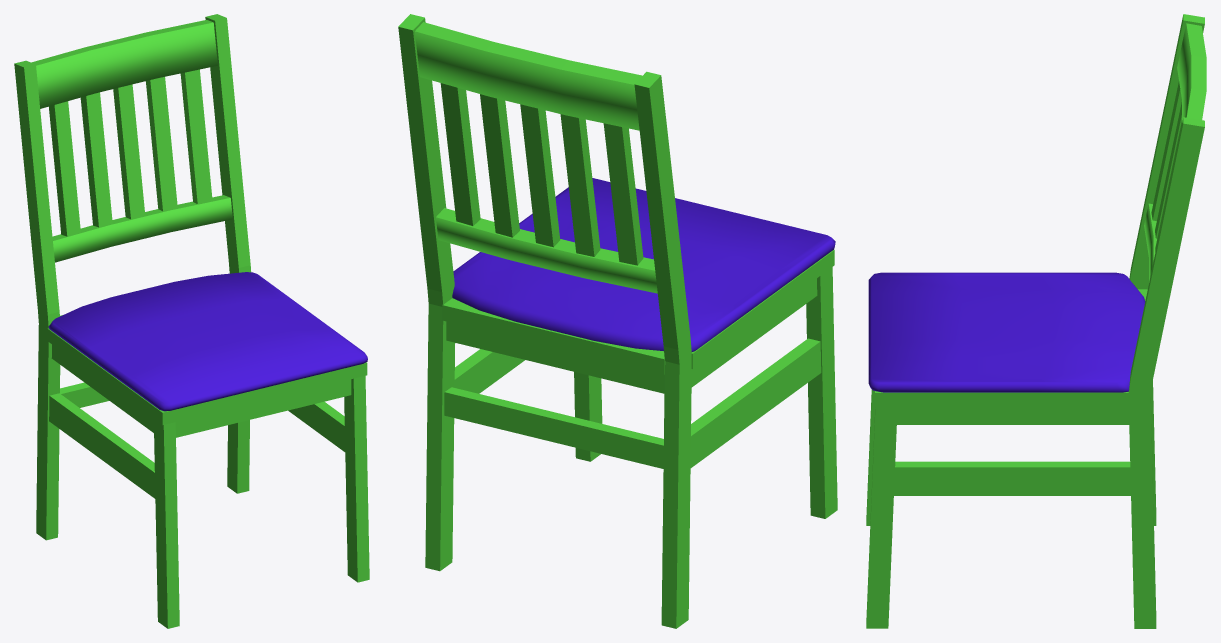
File: Chair1.fbx
3 views of the same model, side by side, from view 1: azimuth 30°, elevation 25°; view 2: azimuth 150°, elevation 25°; view 3: azimuth 270°, elevation 25° (orthographic). The views are drawn at different scales.
Parts seen in each view (by area): view 1: Chair_Basic_low; view 2: Chair_Basic_low; view 3: Chair_Basic_low.
Boxes of the visible parts, x1,y1,x2,y2 form: Chair_Basic_low: (14,14,369,628); Chair_Basic_low: (398,14,837,628); Chair_Basic_low: (866,14,1206,628).
Bounding box in the file's own units: 48.57 × 102 × 62.43.
